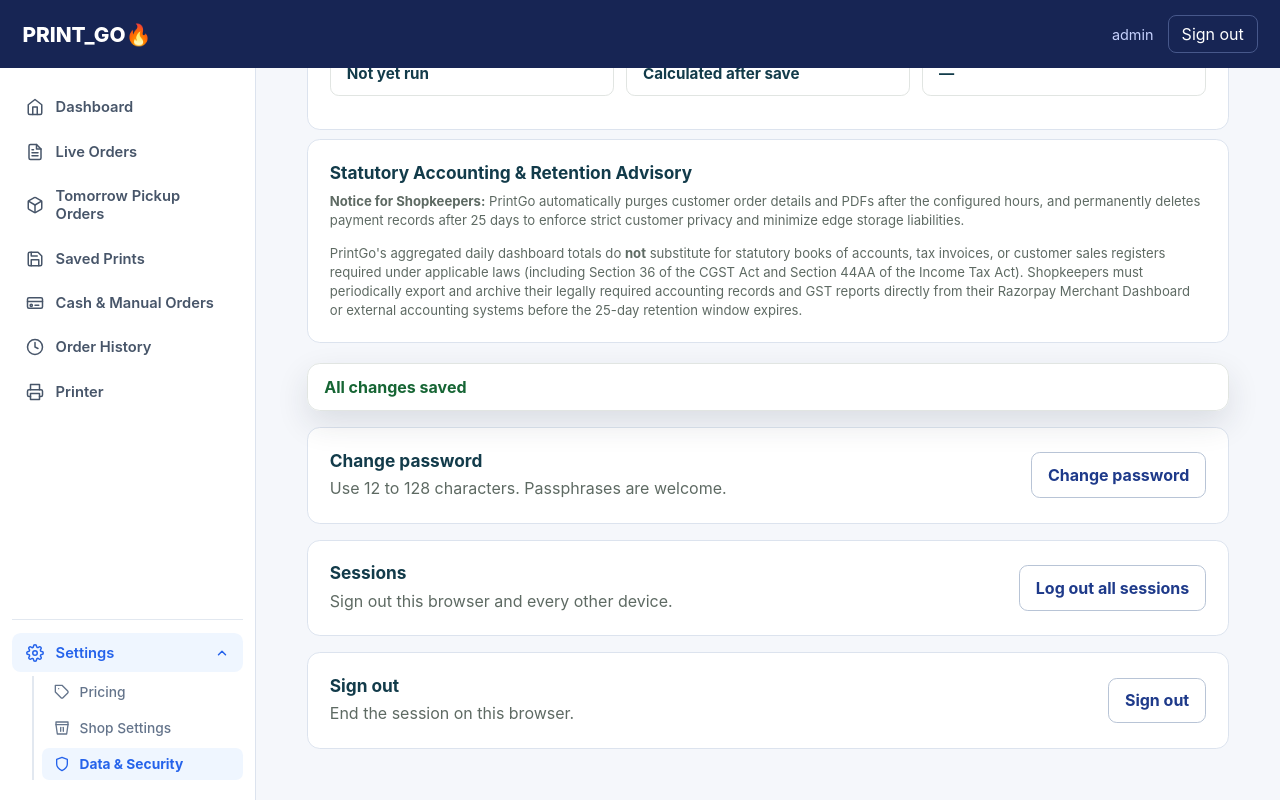
Admin application › opens Change Password in a floating modal dialog and allows canceling
(page scrolled)
Click the button "Change password". click: (1119, 475)
box: [1031,452,1206,498]
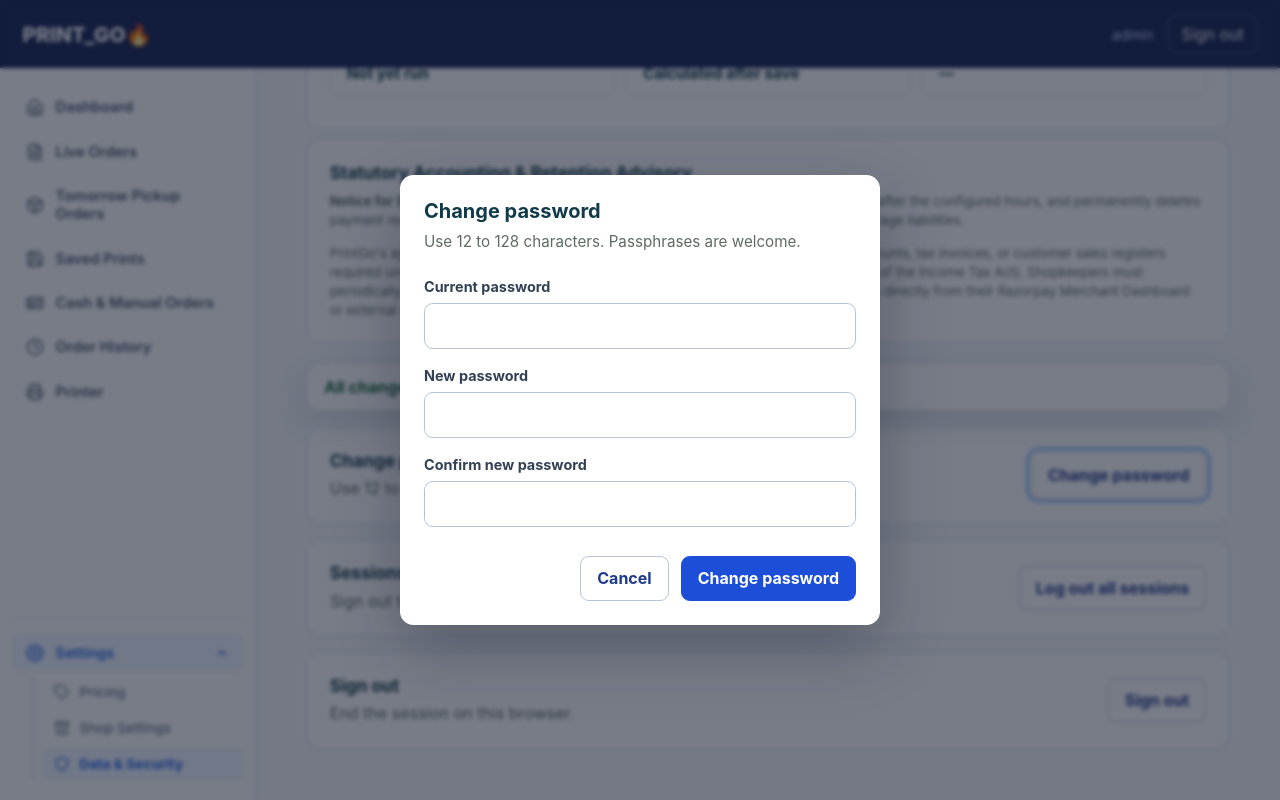
Now the dialog is shown, box [400,175,880,625]
Now the password field labelled "Current password" is shown, box [424,303,856,349]
Click the button "Cancel". click: (624, 578)
box: [580,556,669,601]
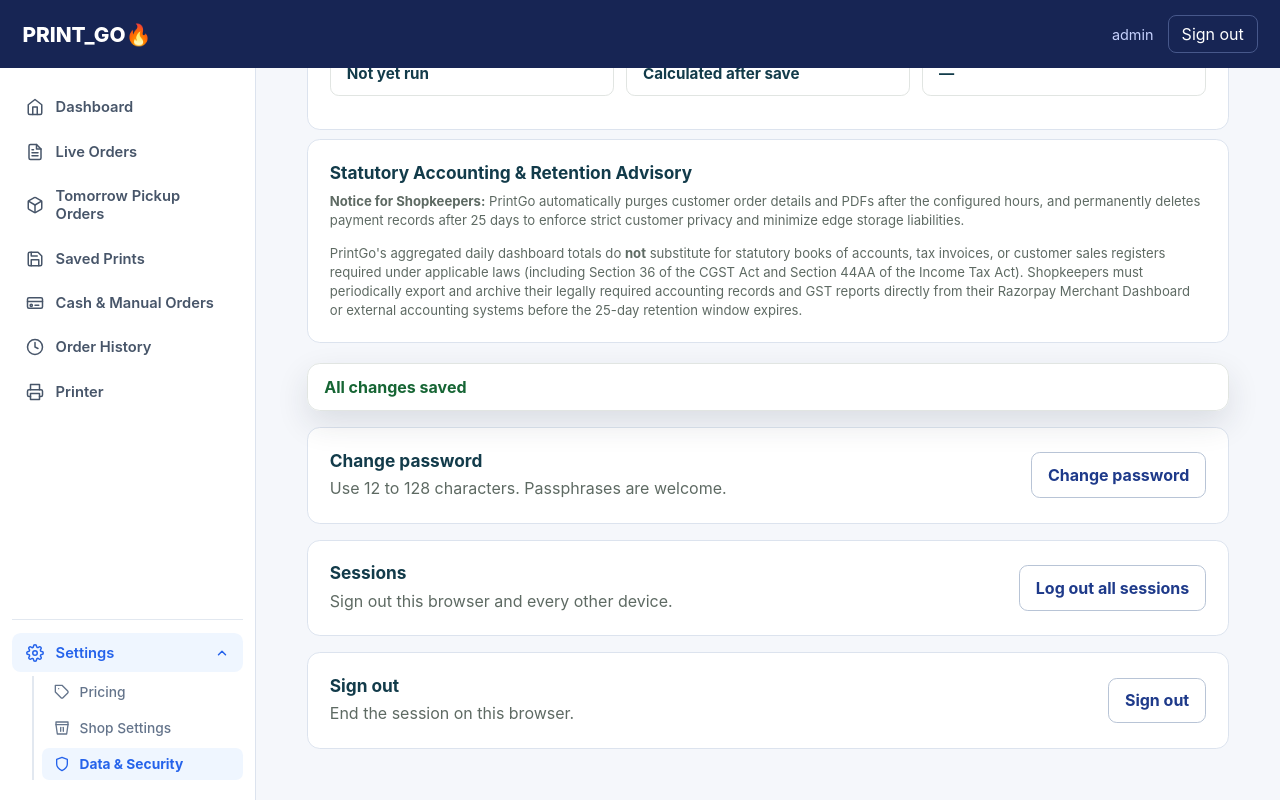
Now the dialog is gone
